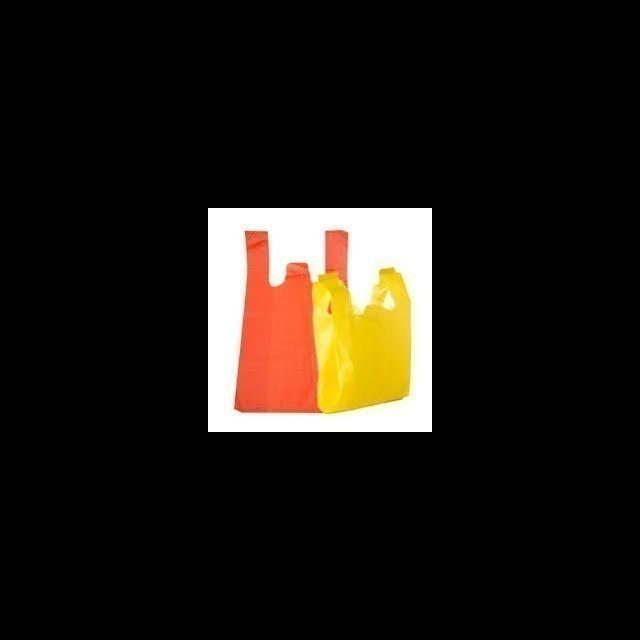plastic: (212, 216, 424, 421)
